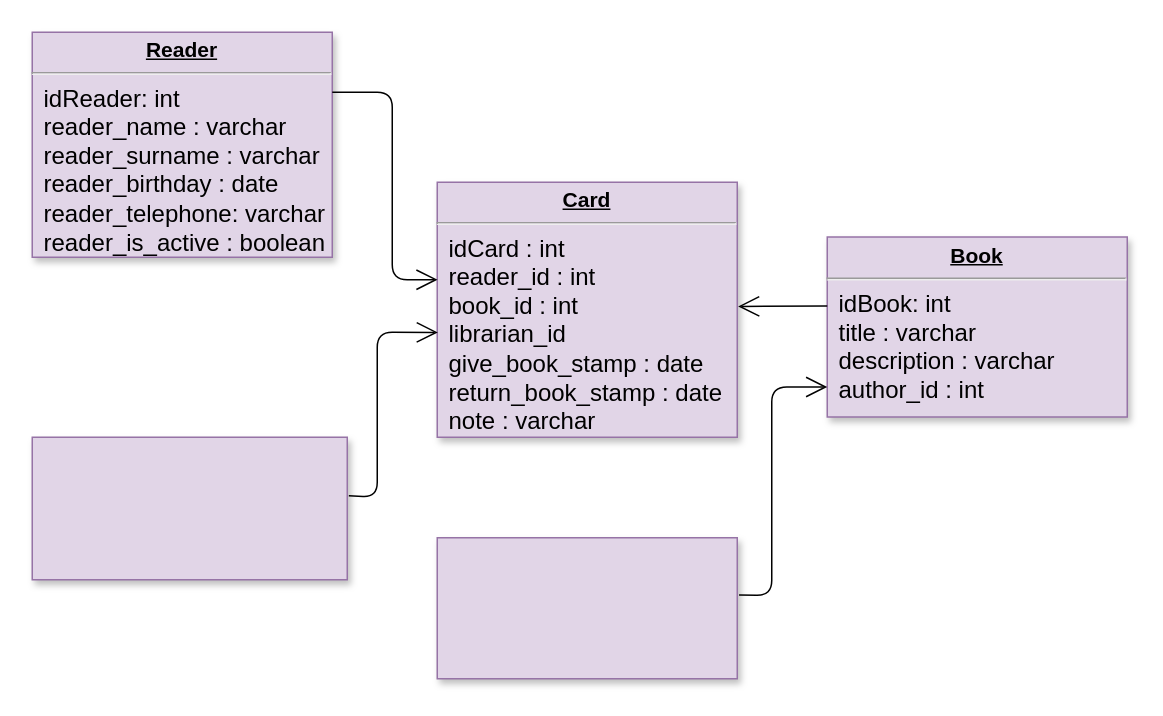
Image size: 1163x716. Some labels were removed from this diagram. Each missing label, with the centre of its shape:
"Author idAuthor : int author_name : varchar author_surname : varchar" belongs at point (588, 609).
"Librarian idLibrarian : int librarian_name : varchar librarian_surname : varchar" belongs at point (190, 510).
